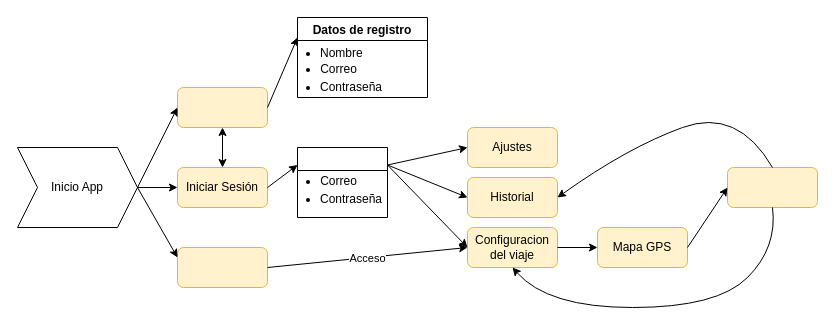
This 835x325 diagram has some shape labels left out. The box of each missing label's shape, as (x1, y1, x2, y2) in pixels:
Calcular precio: (726, 166, 818, 208)
Inicio como Invitado: (176, 246, 268, 288)
Inicio esión: (296, 146, 388, 218)
Registro: (176, 86, 268, 128)
